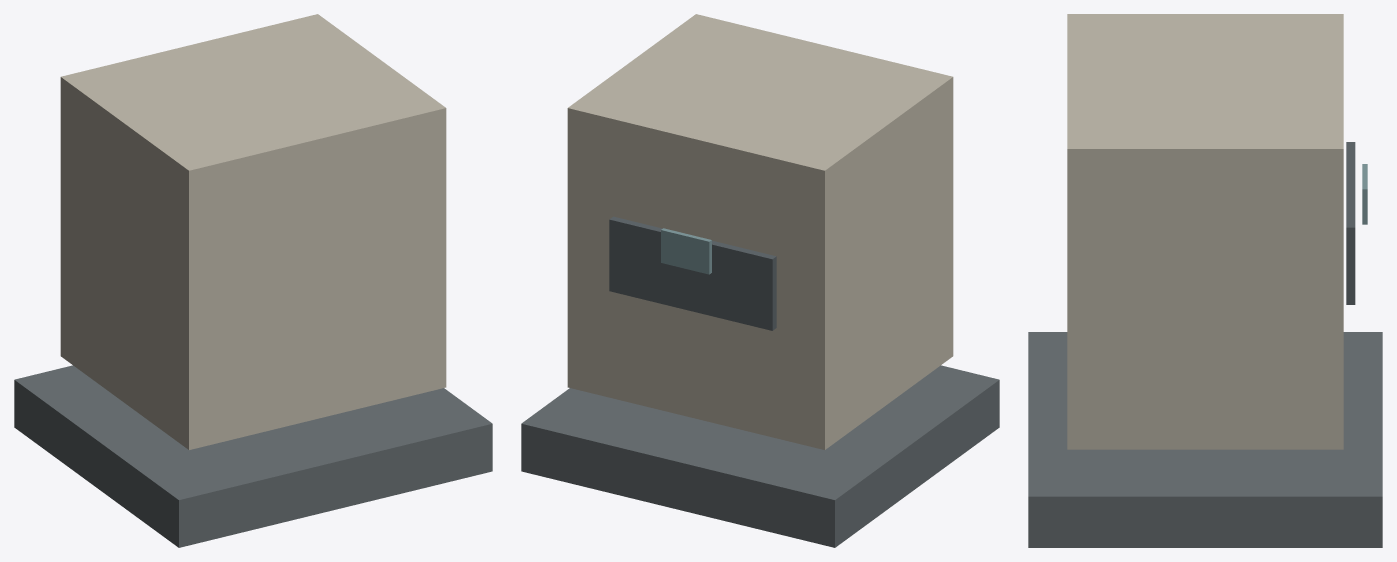
File: iz3_military_checkpoint_01.glb
The picture shows the model from 3 angles, left to right: view 1: azimuth 30°, elevation 25°; view 2: azimuth 150°, elevation 25°; view 3: azimuth 270°, elevation 25°; orthographic projection. The views are drawn at different scales.
Parts seen in each view (by area): view 1: cabinet, base; view 2: cabinet, base, panel, display; view 3: cabinet, base, panel.
Part boxes in pixels (box(x1,y1,x2,y2)): cabinet: box(60, 14, 446, 449); base: box(14, 365, 492, 547); cabinet: box(567, 14, 953, 449); base: box(521, 365, 999, 547); panel: box(609, 216, 776, 330); display: box(661, 228, 711, 274); cabinet: box(1067, 14, 1343, 449); base: box(1028, 332, 1382, 547); panel: box(1346, 142, 1355, 304).
Bounding box in the file's own units: 2.2 × 2.39 × 2.
